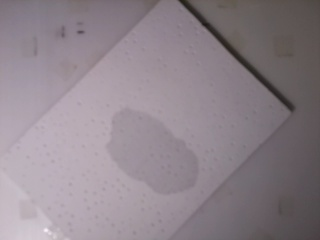Water_detected: (120, 124, 189, 189)
